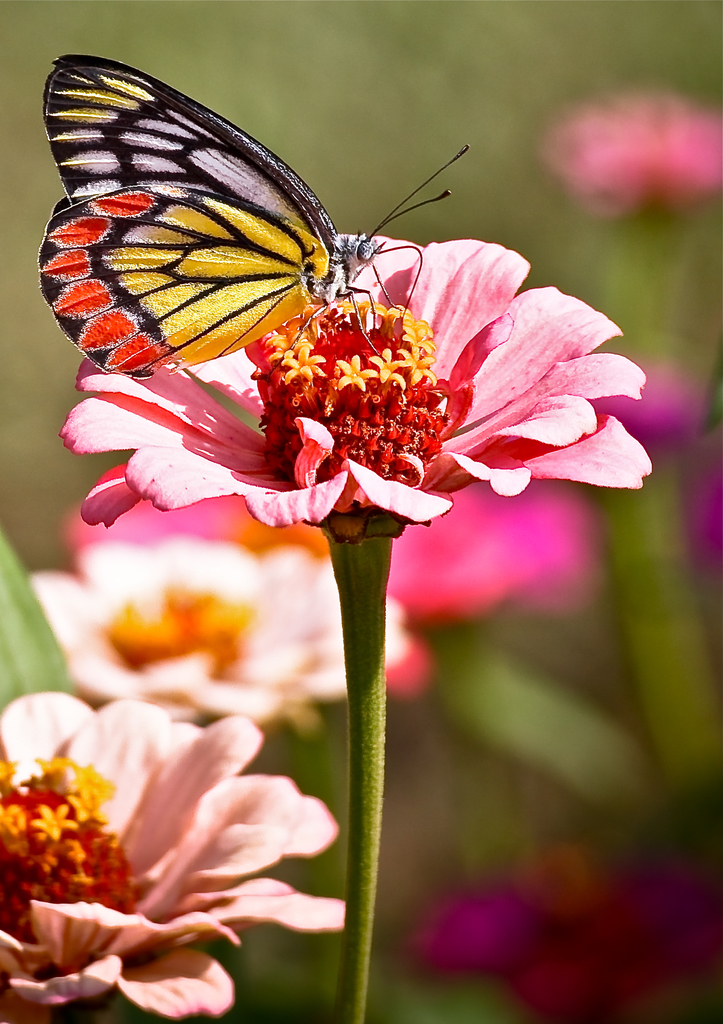Butterfly: (19, 33, 400, 385)
